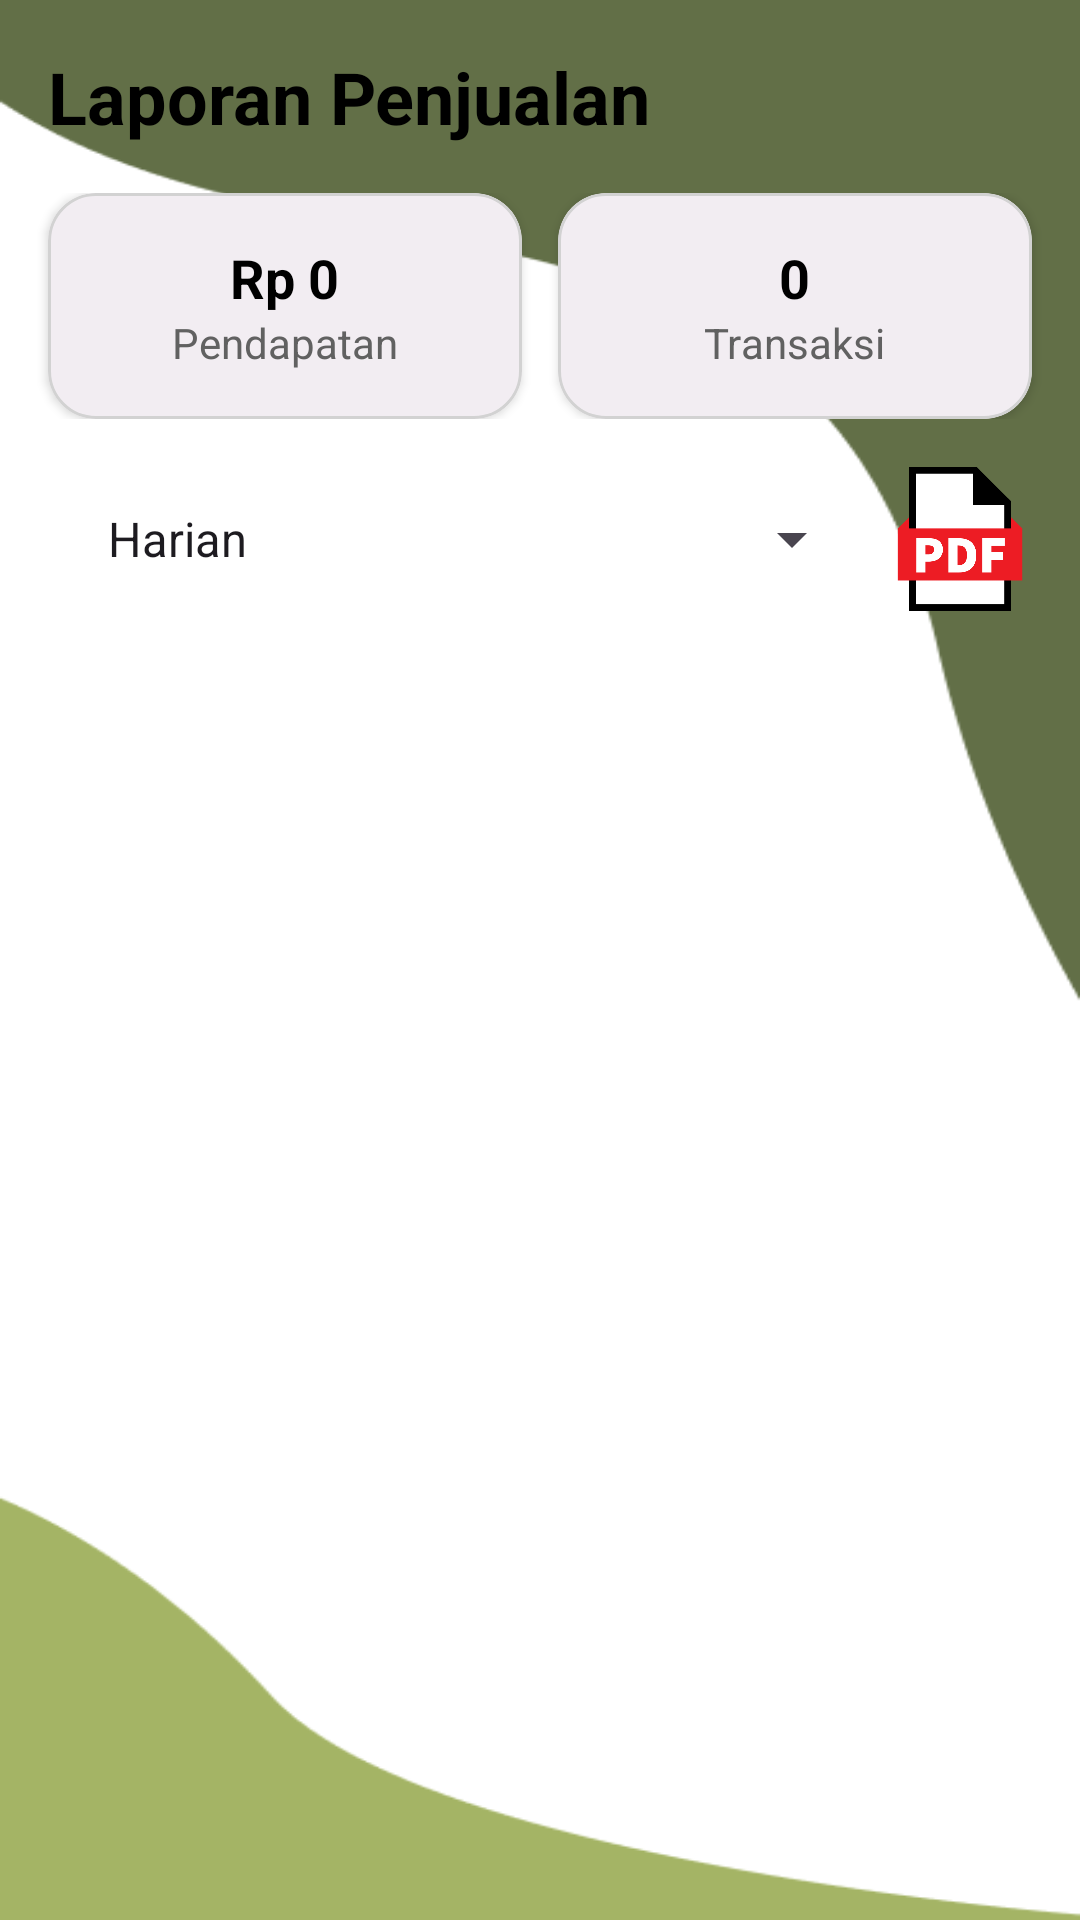

Named icons in this screenshot (1080*1920) and their bounding boxes, [x1=x1, y1=y1, x2=x2, y2=y2]:
Export to PDF: [x1=888, y1=467, x2=1023, y2=611]
